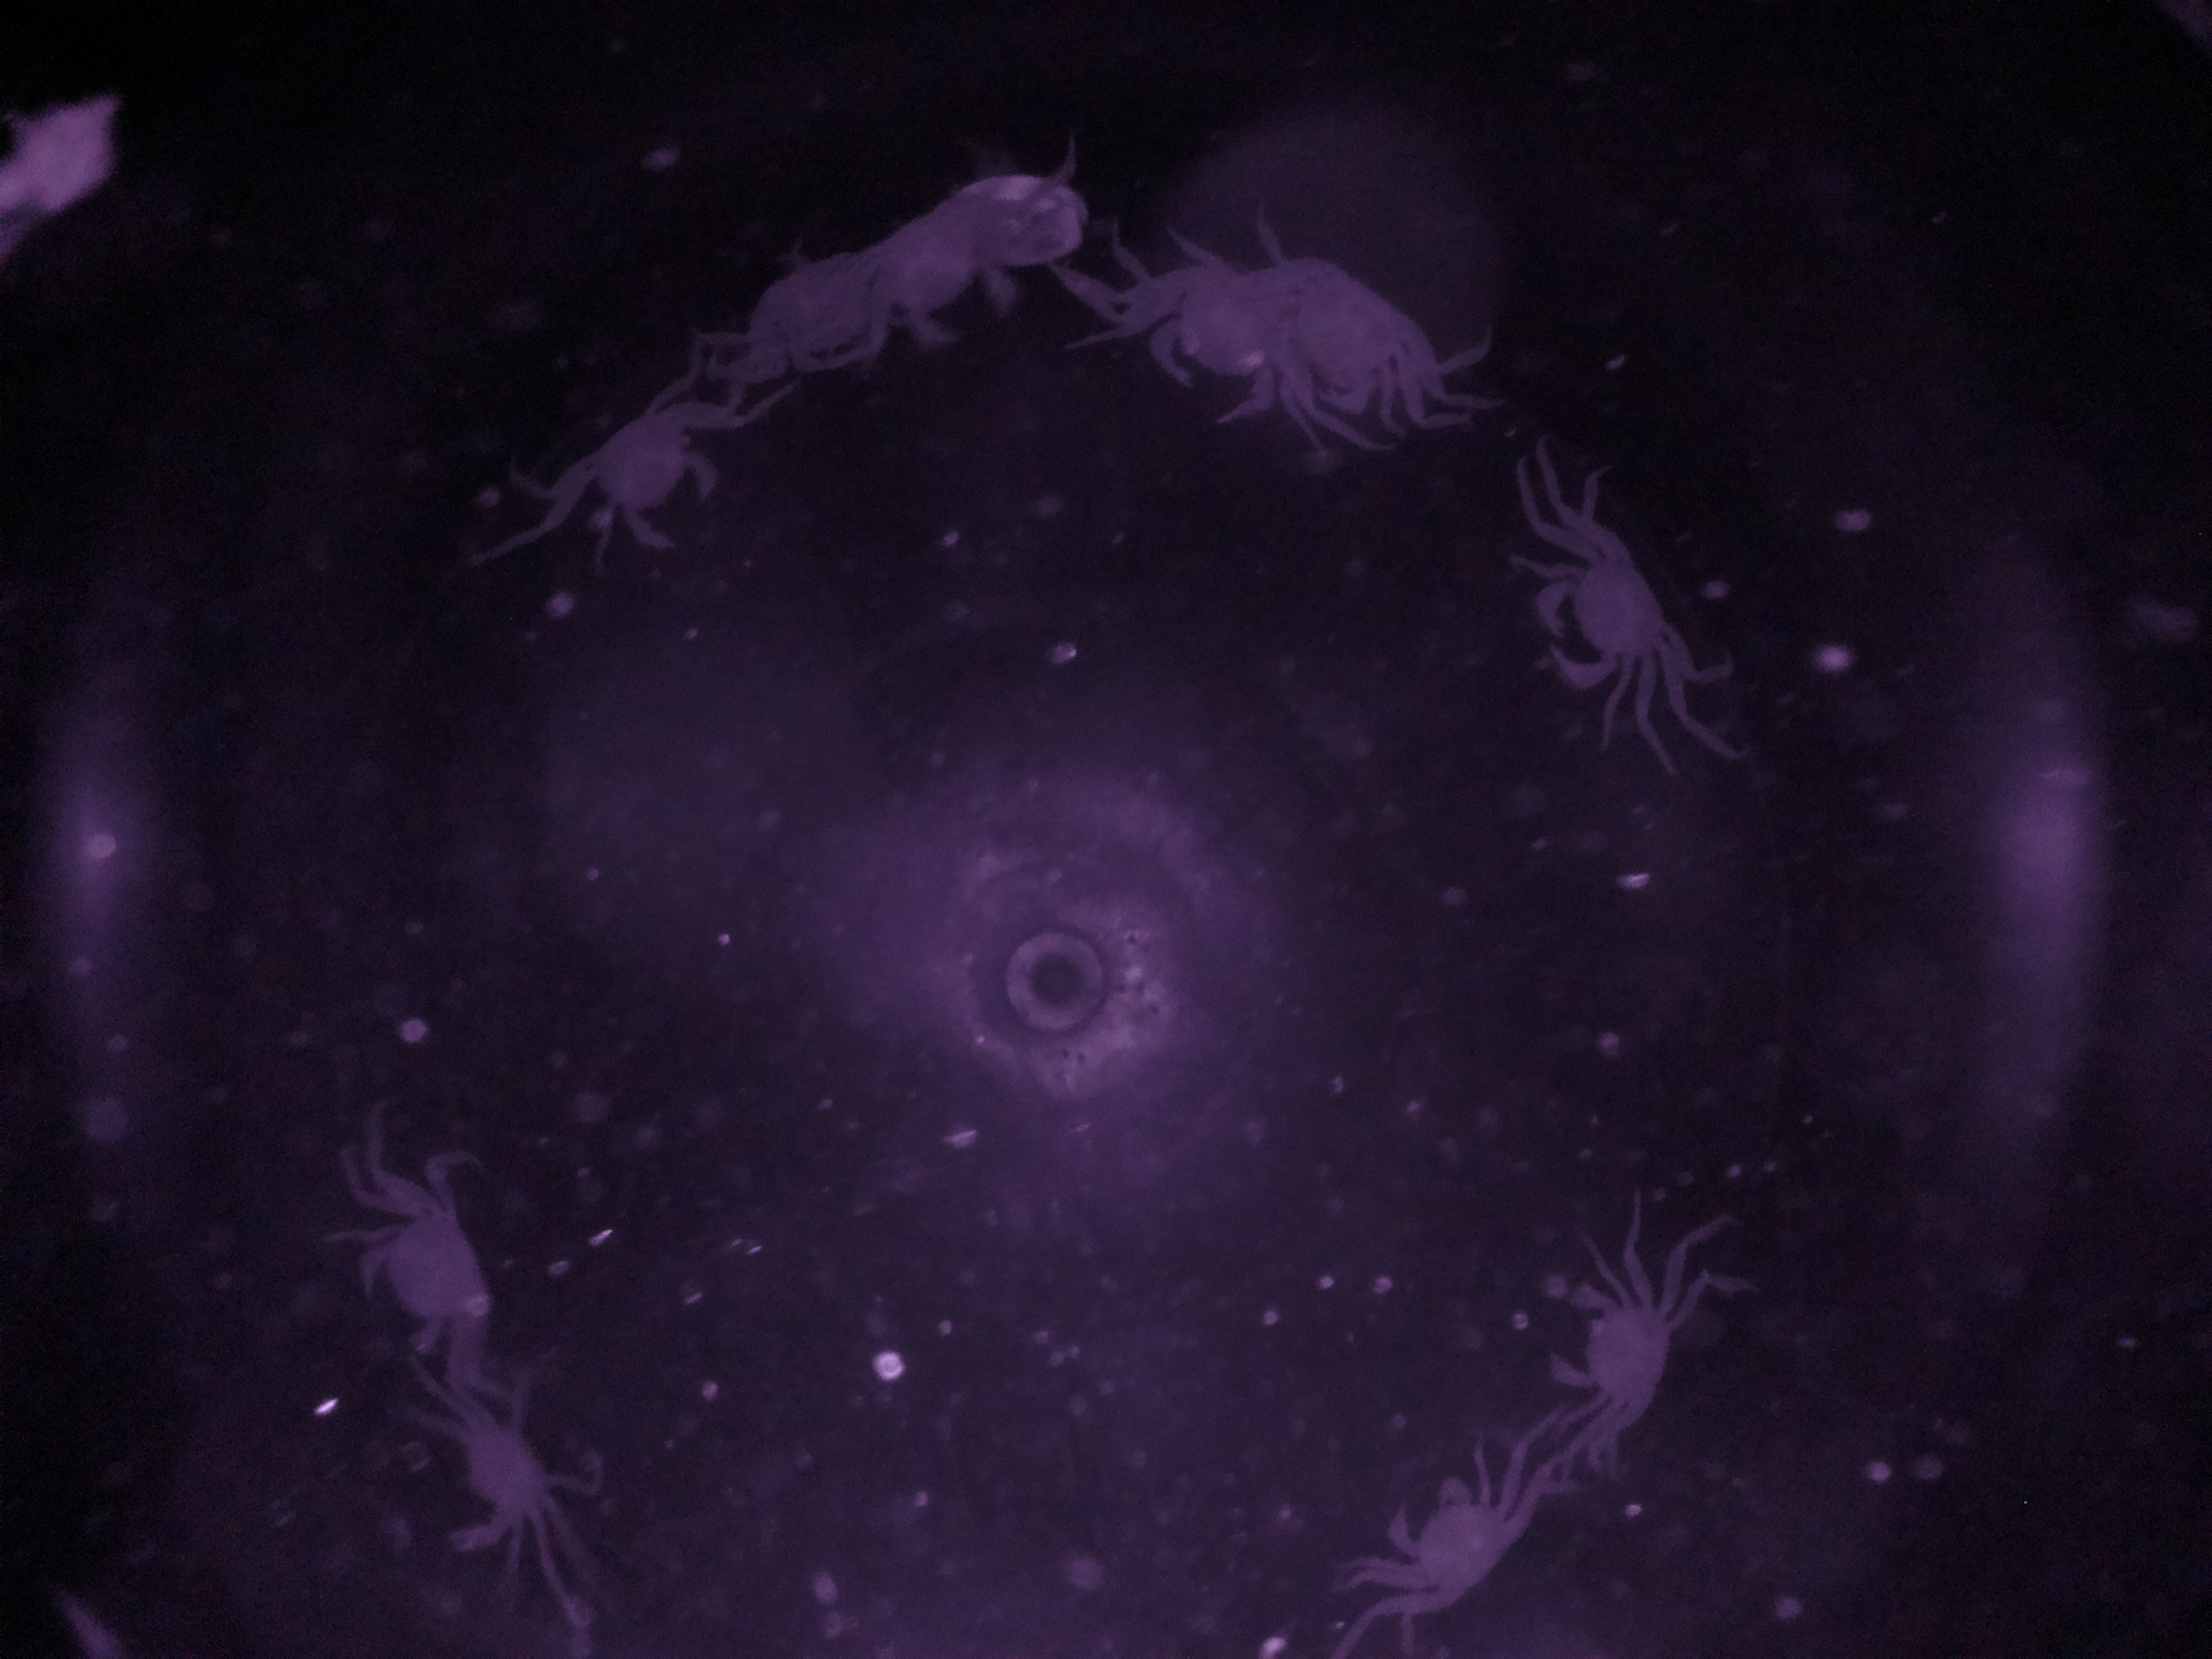Crab: (1514, 505, 1693, 748), (1533, 1223, 1689, 1462), (1357, 1441, 1529, 1631)
